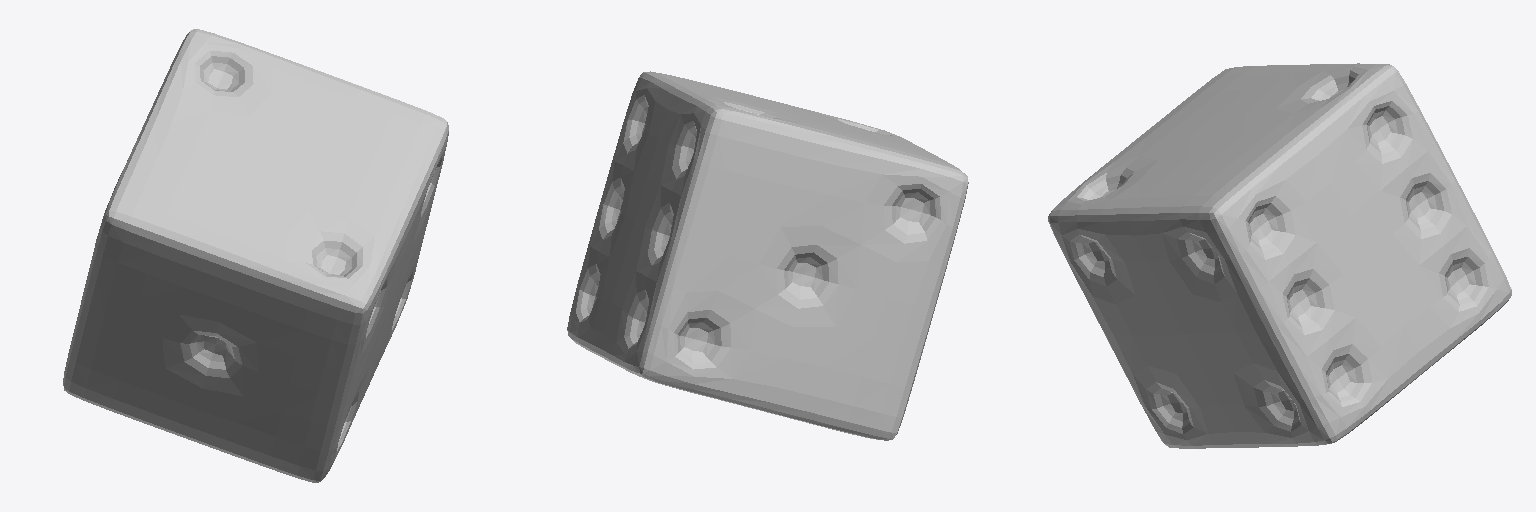
File: nicedice.obj
The picture shows the model from 3 angles: view 1: azimuth 30°, elevation 25°; view 2: azimuth 150°, elevation 25°; view 3: azimuth 270°, elevation 25°; orthographic projection.
Visible parts, largest first — view 1: dice; view 2: dice; view 3: dice.
Boxes of the visible parts, x1=… form: dice: x1=63, y1=29, x2=448, y2=482; dice: x1=567, y1=71, x2=968, y2=440; dice: x1=1048, y1=63, x2=1511, y2=448.
Bounding box in the file's own units: 0.5585 × 0.571 × 0.6411.